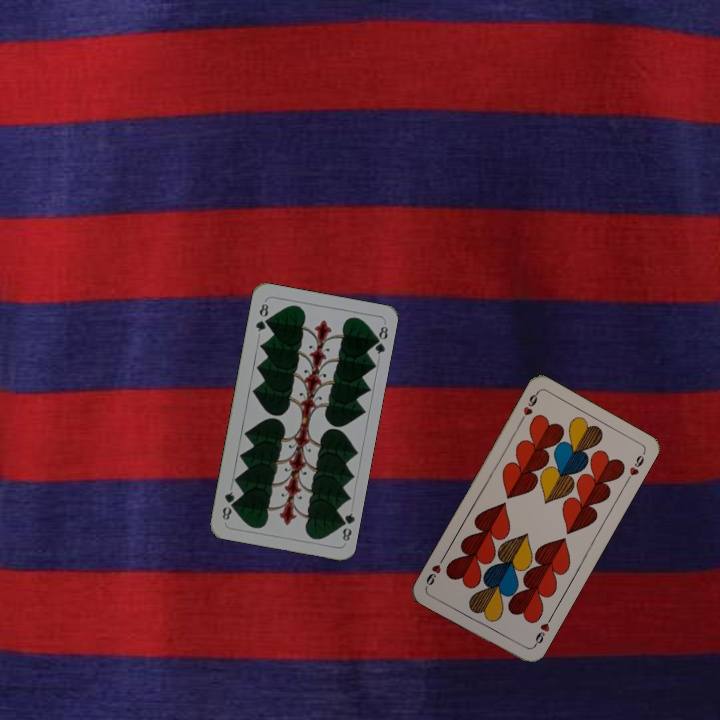G8: (335, 509, 357, 544), (251, 299, 271, 334)
H9: (529, 613, 555, 650), (516, 388, 541, 426)
